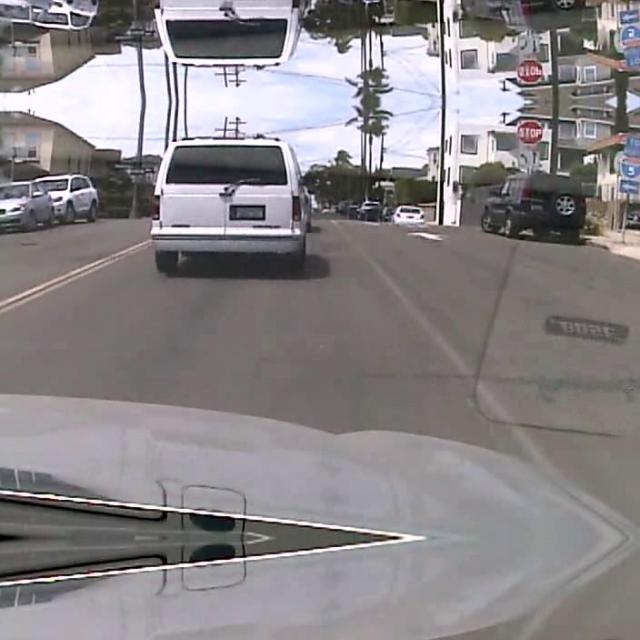stop: (516, 118, 542, 144), (516, 58, 542, 84)
